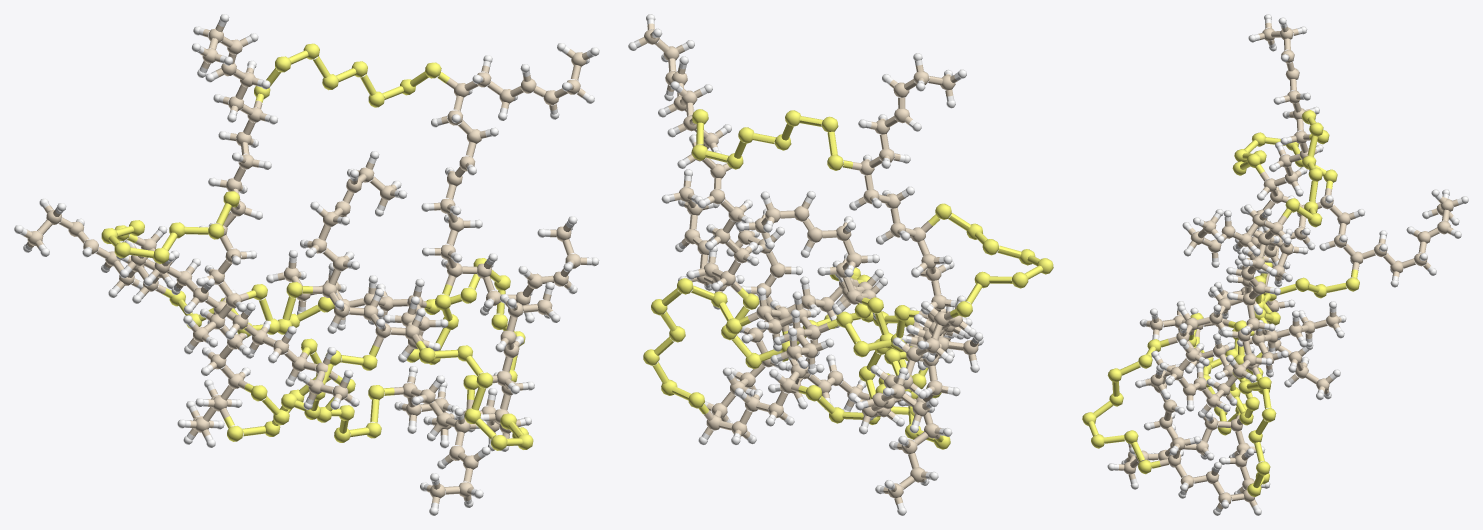
The model's file is Elastomer_Ball.glb.
3 renders of one model, left to right at view 1: azimuth 30°, elevation 25°; view 2: azimuth 150°, elevation 25°; view 3: azimuth 270°, elevation 25°, orthographic. The views are drawn at different scales.
Size of the model in its own units: 0.8416 by 0.8359 by 0.7234.
